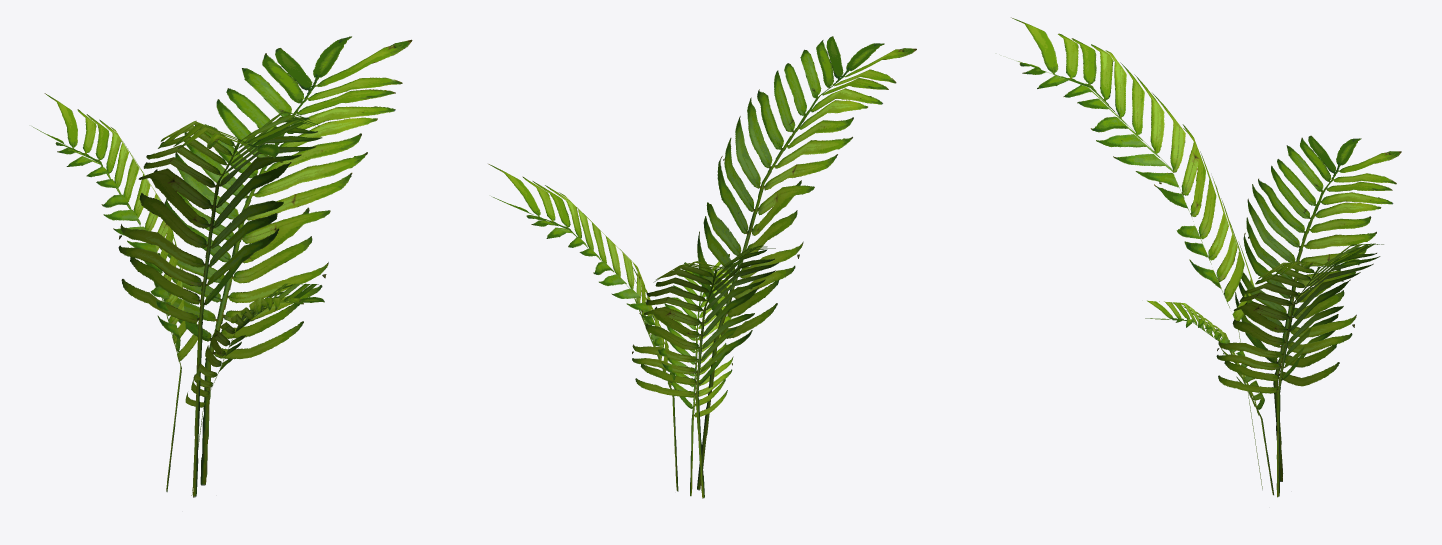
The model's file is obj_plant_fern 1.FBX.
The picture shows the model from 3 angles, left to right: view 1: azimuth 30°, elevation 25°; view 2: azimuth 150°, elevation 25°; view 3: azimuth 270°, elevation 25°; orthographic projection. The views are drawn at different scales.
Visible parts, largest first — view 1: obj_plant_fern; view 2: obj_plant_fern; view 3: obj_plant_fern.
Boxes of the visible parts, x1,y1,x2,y2 form: obj_plant_fern: [32, 36, 412, 497]; obj_plant_fern: [488, 36, 916, 498]; obj_plant_fern: [1011, 17, 1401, 497].
Size of the model in its own units: 48.99 by 55.97 by 53.33.
1 material, 1 textured.
